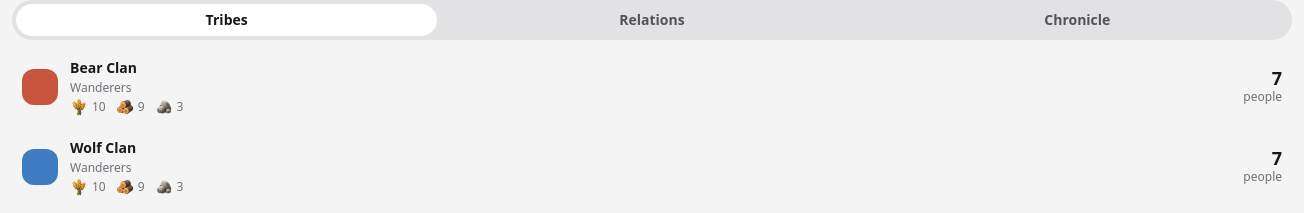
Test: journal panel › shows how the tribes stand with each other
The width and height of the screenshot is (1304, 213).
Click the tab "Relations".
click(652, 20)  # box [441,4,863,36]
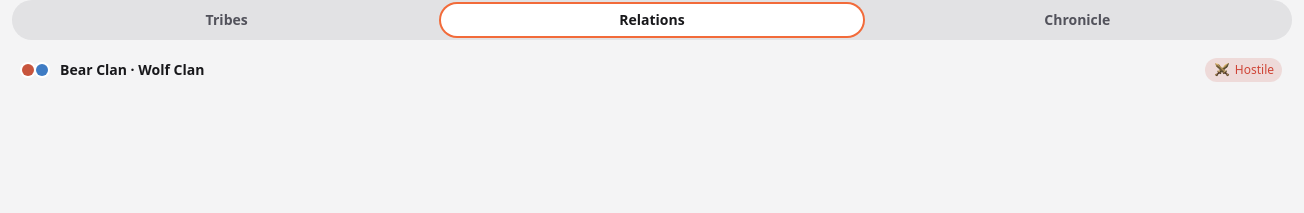
Now the text "Bear Clan · Wolf Clan" is shown, box [60,60,204,79]
Now the text "Hostile" is shown, box [1205,58,1282,82]
